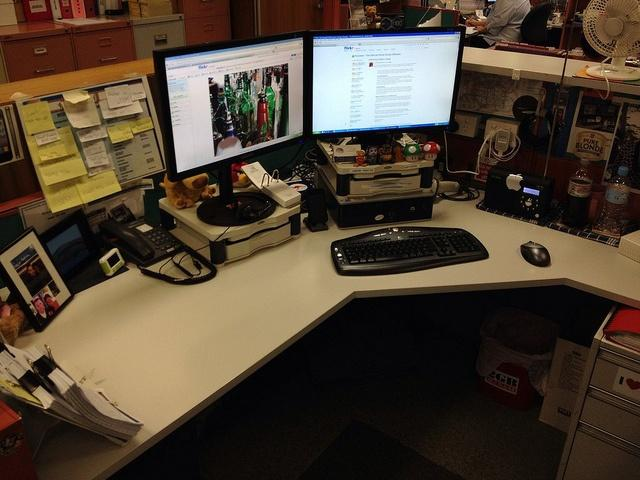AIO PC-Monitor-TV: (150, 28, 308, 180), (308, 25, 466, 136)
